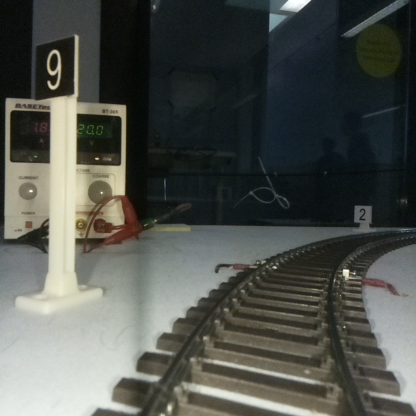black-info-9: (36, 38, 73, 311)
white-stop-2: (354, 205, 371, 231)
